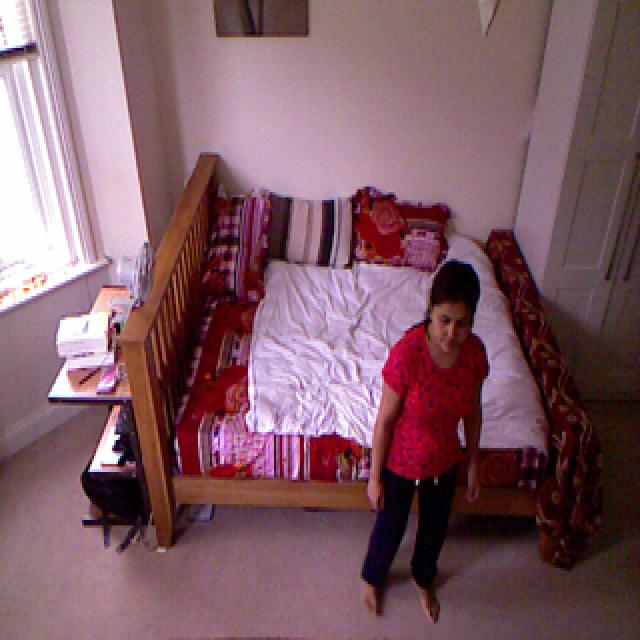standing: (358, 255, 496, 621)
